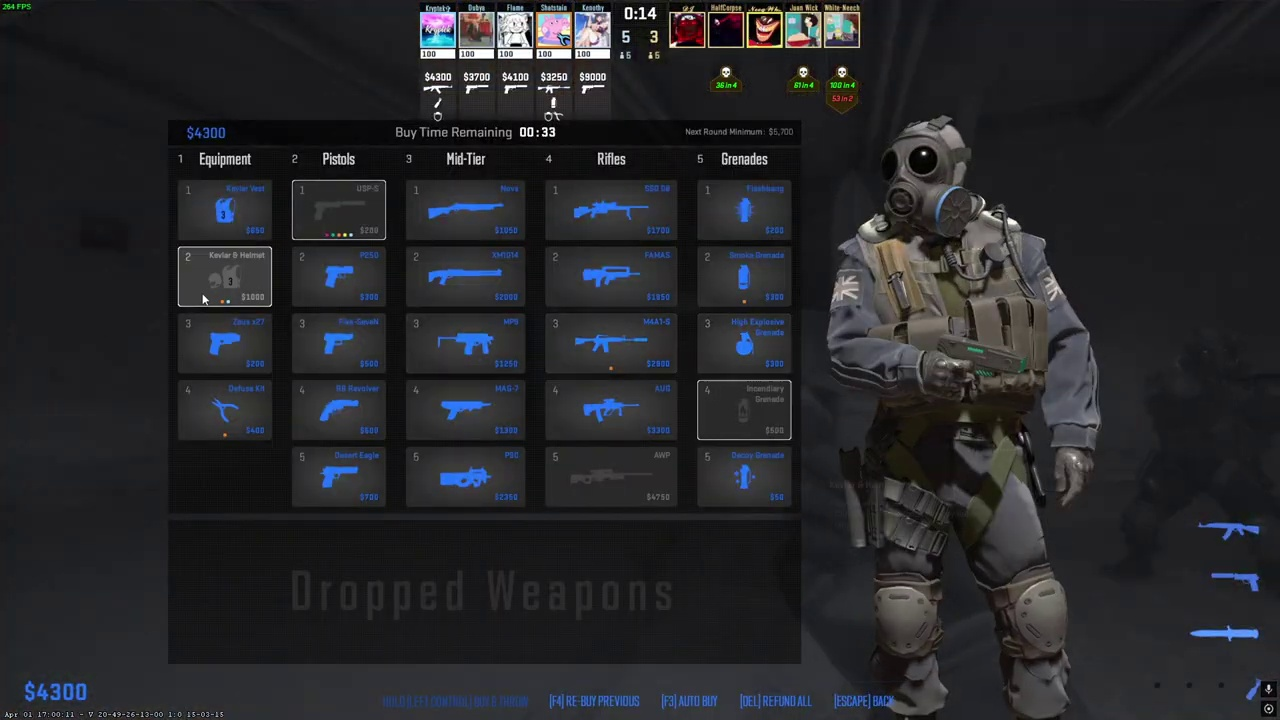CT: (852, 122, 1074, 720)
